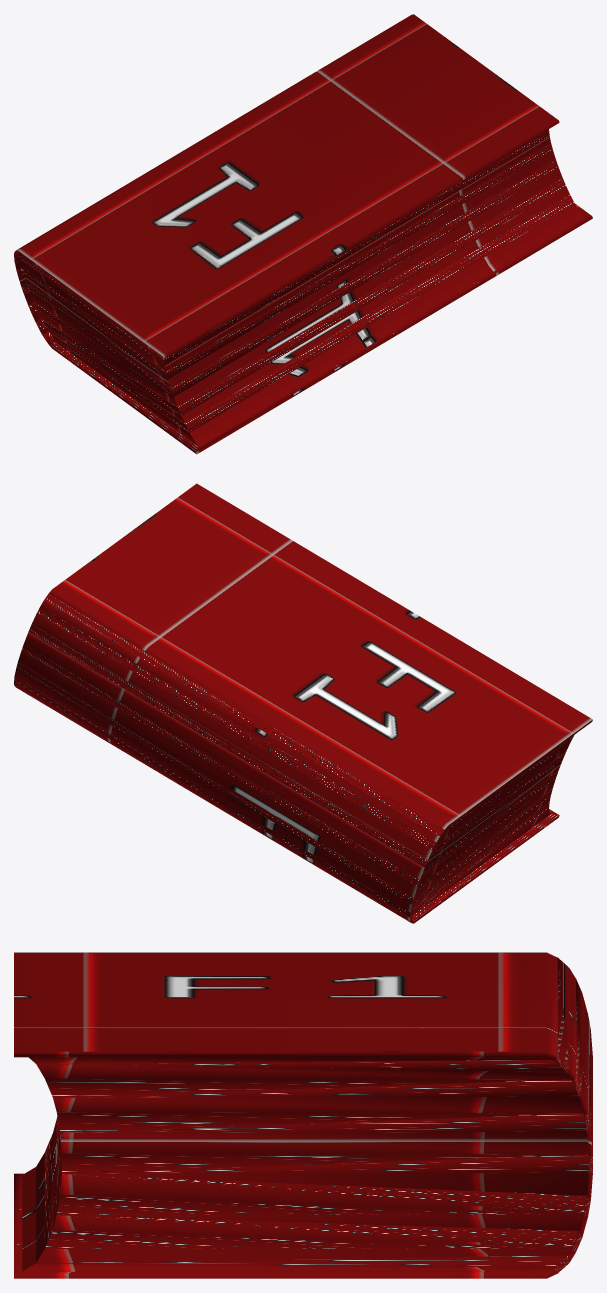
The model's file is KnjigaOne.fbx.
3 renders of one model, top to bottom at view 1: azimuth 30°, elevation 25°; view 2: azimuth 150°, elevation 25°; view 3: azimuth 270°, elevation 25°, orthographic. The views are drawn at different scales.
Visible parts, largest first — view 1: book; view 2: book; view 3: book.
Part boxes in pixels (x1,y1,x2,y2): book: (14, 14, 592, 454); book: (14, 483, 592, 923); book: (14, 952, 592, 1278).
Bounding box in the file's own units: 16.43 × 8.97 × 10.39.
1 material, 1 textured.
